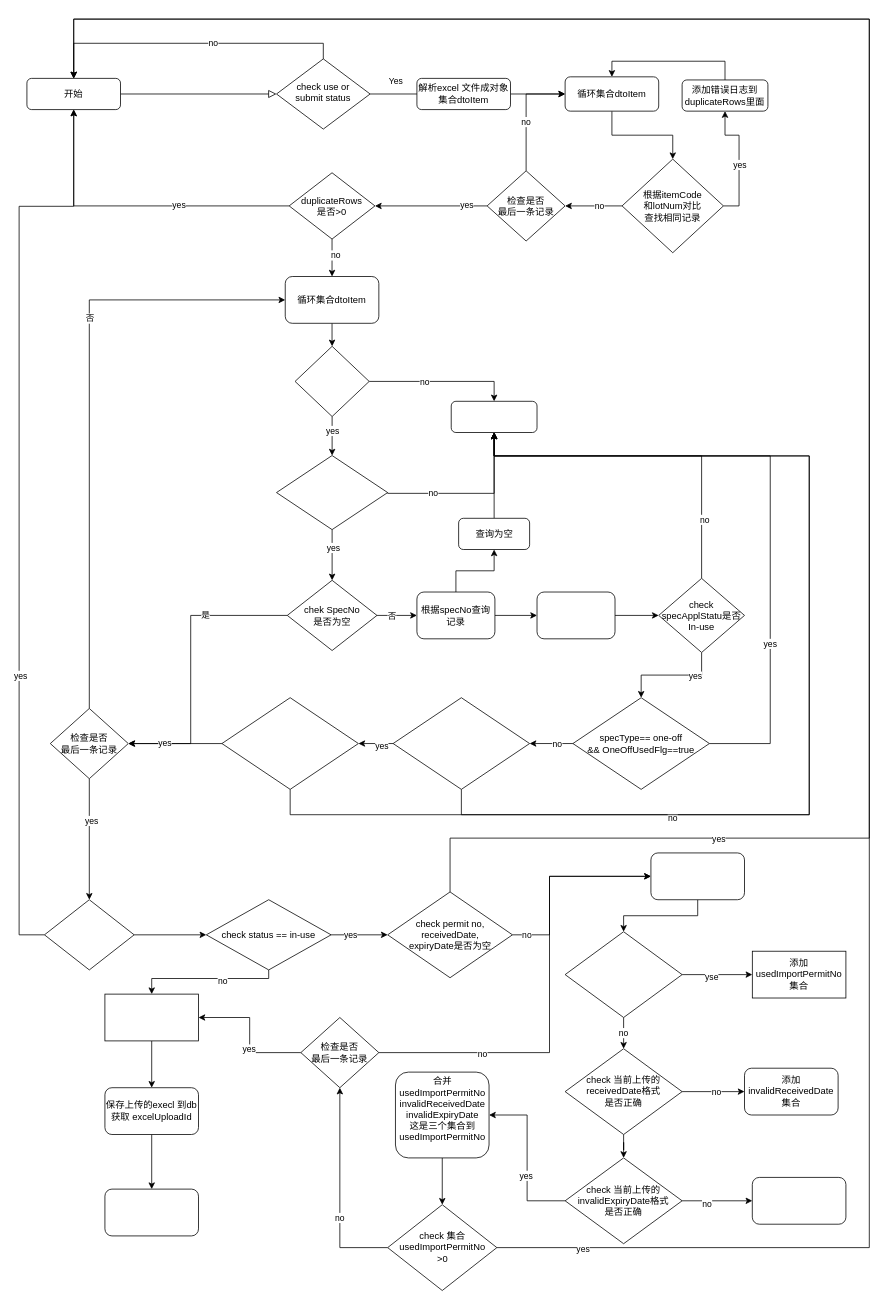
The diagram is 889 pixels wide and 1304 high, and some of its shapes have lost their labels. Here are the shapes that lost their labels. From the top down, the box of each, then its label:
(294, 346, 369, 417): check quantity > 0
(450, 401, 537, 433): 添加错误日志到errorMessage里面
(276, 455, 388, 530): check item master 信息是否正确
(536, 591, 615, 639): 根据specId查询specAppl记录
(221, 697, 358, 789): ImportQuantity > specBalanceQuantity
(392, 697, 530, 789): 用specId和permit ItemCode是否查到 specItem记录
(650, 852, 745, 900): 循环集合
(44, 899, 134, 970): check errorMessage>0
(564, 931, 682, 1018): check 当前上传的 permitNo是否被其他 permit Record 使用
(104, 993, 199, 1041): 把上传文件记录的对象转换成 importDto对象
(104, 1188, 199, 1236): end
(752, 1177, 846, 1224): 添加 invalidExpiryDate 集合
